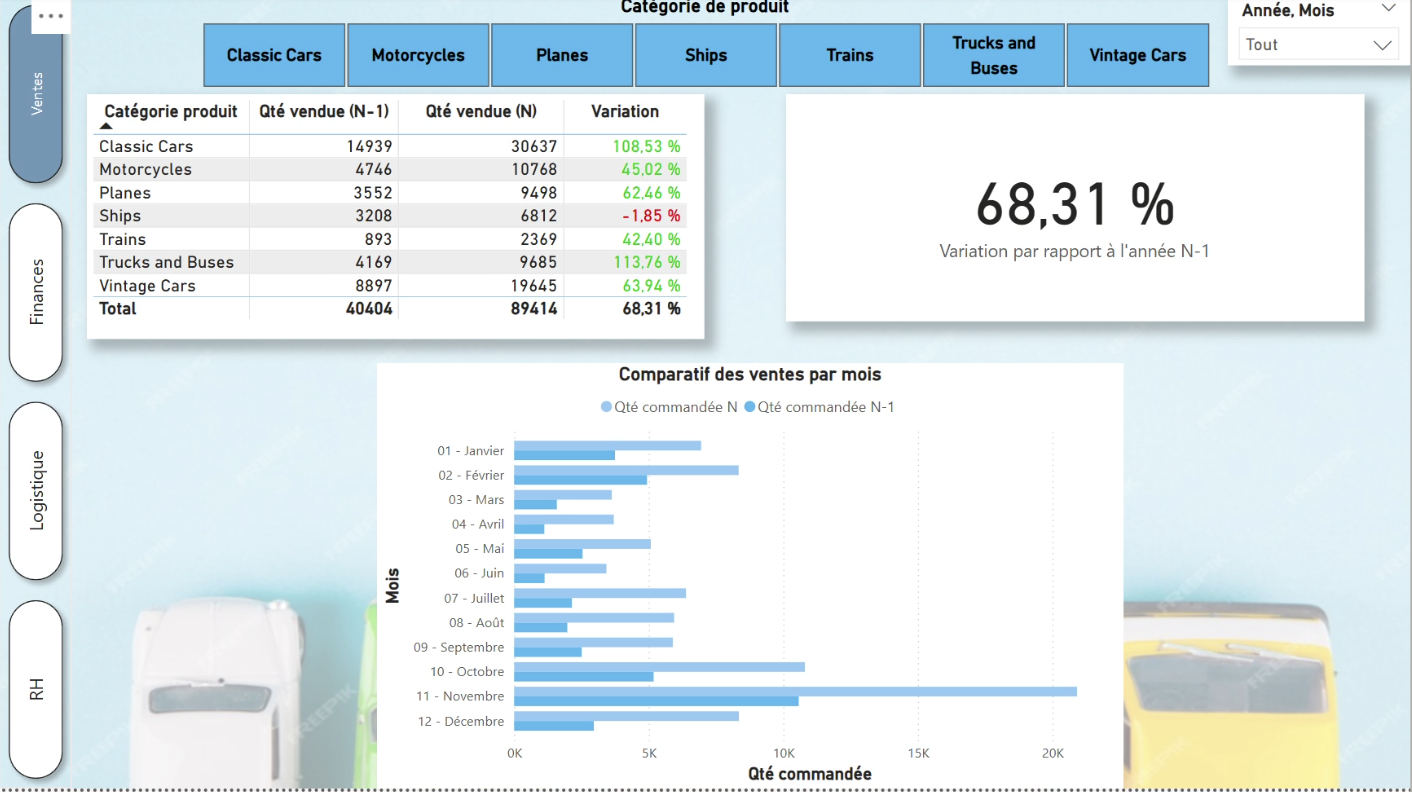

What the dashboard file says about the page in this screenshot:
{"tool":"powerbi","page":{"name":"Ventes","canvas":[1280,720],"ordinal":0},"visuals":[{"type":"slicer","title":"Catégorie de produit","fields":{"Values":["Requête1.Catégorie_produit"]},"box":[159.4,0,961.8,90.4],"z":0},{"type":"slicer","fields":{"Values":["ventes1.Année","ventes1.Mois"]},"box":[1114.7,0,165.3,64.2],"z":1000},{"type":"tableEx","fields":{"Values":["Requête1.Catégorie_produit","Sum(Requête1.Qté_commandée_année_N-1)","Sum(Requête1.Qté_commandée_année_N)","Avg(Requête1.Variation)"]},"box":[79.8,90.5,560.2,221.8],"z":2000},{"type":"card","fields":{"Values":["Avg(ventes1.Variation)"]},"box":[713.9,90.5,524.3,206.2],"z":3000},{"type":"pageNavigator","box":[0,0,67.2,720],"z":4000},{"type":"clusteredBarChart","title":"Comparatif des ventes par mois","fields":{"Category":["ventes1.Nom_Mois"],"Y":["Sum(ventes1.Qté_commandée_année_N)","Sum(ventes1.Qté_commandée_année_N-1)"]},"box":[343.3,333.6,677,386.1],"z":6000}]}

Visuals, with their boxes on the page's 1280x720 design canvas (x1, y1, x2, y2). These are canvas units, not pixel positions in the 1412x792 screenshot, which may show the page scaled, cropped or inside an application window:
"Catégorie de produit" slicer: BBox(159, 0, 1121, 90)
slicer - ventes1.Année x ventes1.Mois: BBox(1115, 0, 1280, 64)
tableEx - Requête1.Catégorie_produit x Sum(Requête1.Qté_commandée_année_N-1): BBox(80, 90, 640, 312)
card - Avg(ventes1.Variation): BBox(714, 90, 1238, 297)
pageNavigator: BBox(0, 0, 67, 720)
"Comparatif des ventes par mois" clusteredBarChart: BBox(343, 334, 1020, 720)
